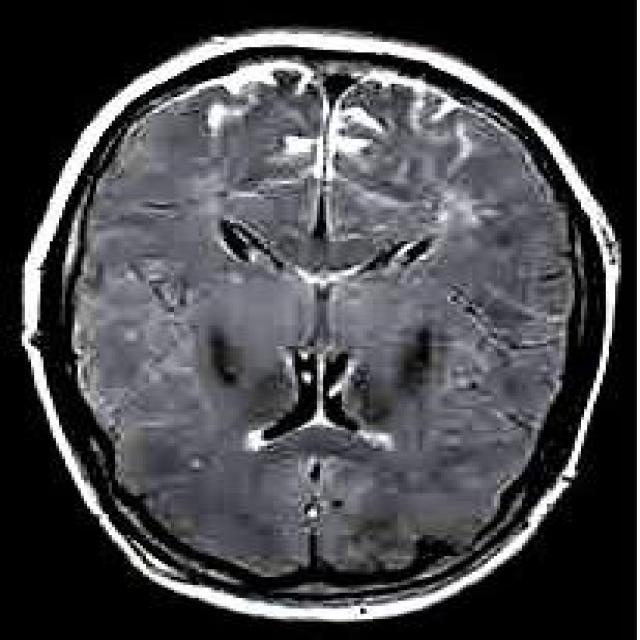notumor: (22, 31, 618, 624)
